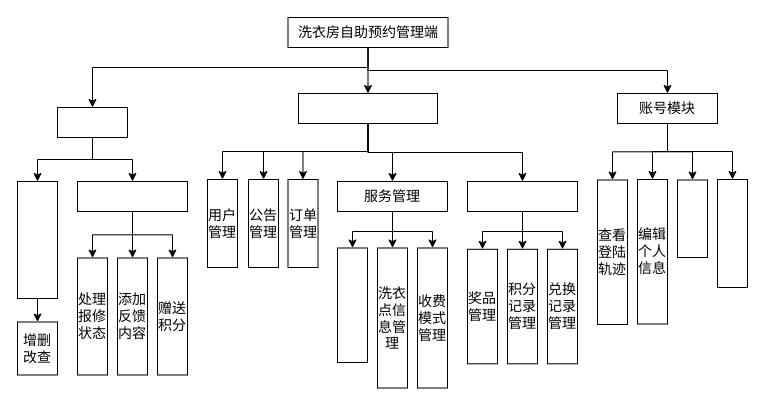
Some shapes in this 765 by 406 pixel diagram are drawn without their labels. The box of each missing label's shape, as (x1, y1, x2, y2) in pixels:
信息管理: (298, 92, 438, 124)
服务类型管理: (336, 247, 368, 362)
机器列表管理: (16, 180, 58, 298)
机器报修管理: (76, 180, 188, 212)
机器管理: (56, 106, 128, 138)
登录: (676, 179, 708, 258)
积分管理: (466, 180, 578, 212)
退出登录: (716, 178, 748, 288)
